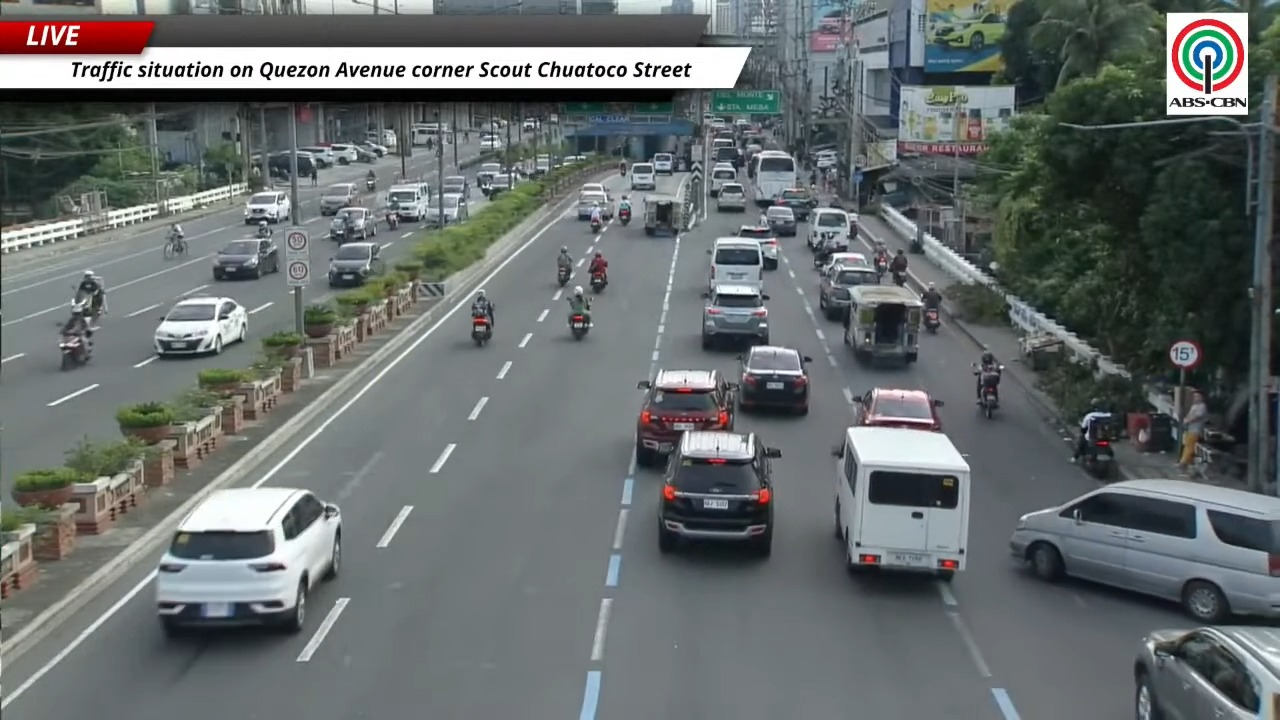bus: (752, 150, 797, 207)
car: (1009, 479, 1279, 624), (154, 487, 341, 635), (658, 431, 780, 556), (1133, 626, 1279, 719), (635, 370, 736, 466), (153, 296, 247, 356), (737, 345, 811, 414), (701, 284, 769, 349), (853, 388, 942, 431), (819, 265, 878, 319), (212, 238, 279, 280), (930, 13, 1006, 50), (327, 242, 385, 287), (736, 225, 778, 269), (330, 207, 376, 242), (244, 191, 291, 224), (776, 188, 816, 221), (319, 183, 358, 215), (820, 252, 873, 273), (576, 192, 612, 220), (765, 205, 797, 236), (481, 173, 513, 200), (716, 183, 746, 211), (299, 145, 335, 168), (442, 193, 468, 224), (629, 163, 657, 191), (443, 192, 468, 223), (441, 175, 471, 198), (330, 143, 359, 164), (477, 162, 501, 185), (356, 140, 387, 157), (652, 153, 675, 175), (533, 155, 553, 177), (354, 145, 378, 163), (816, 150, 838, 169), (579, 183, 608, 197), (479, 136, 503, 150), (522, 118, 539, 130)
motorcycle: (1080, 417, 1117, 480), (974, 365, 1003, 418), (1081, 439, 1117, 480), (59, 334, 88, 370), (71, 290, 98, 323), (471, 315, 491, 346), (979, 386, 998, 418), (568, 313, 589, 339), (923, 307, 939, 332), (874, 257, 887, 283), (330, 226, 349, 243), (590, 273, 606, 293), (557, 265, 571, 287), (813, 249, 829, 268), (385, 212, 399, 230), (619, 208, 631, 227), (892, 271, 906, 287), (256, 226, 272, 238), (590, 219, 602, 234), (366, 179, 375, 191), (619, 164, 626, 176)
